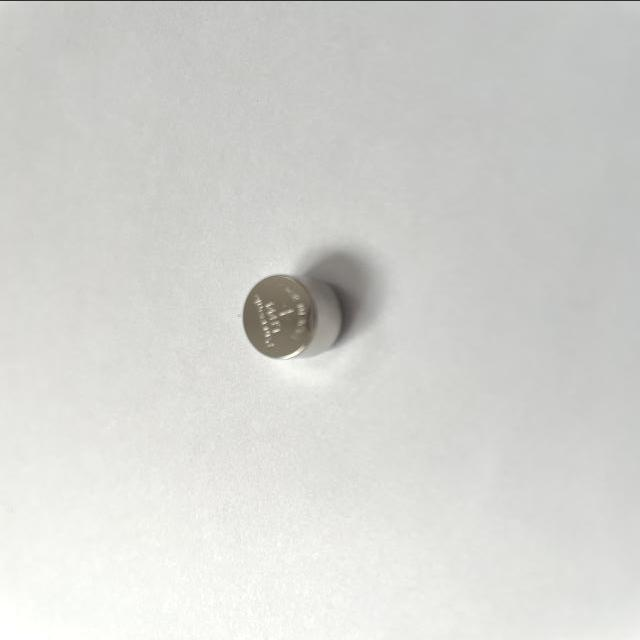COIN: (238, 273, 346, 360)
